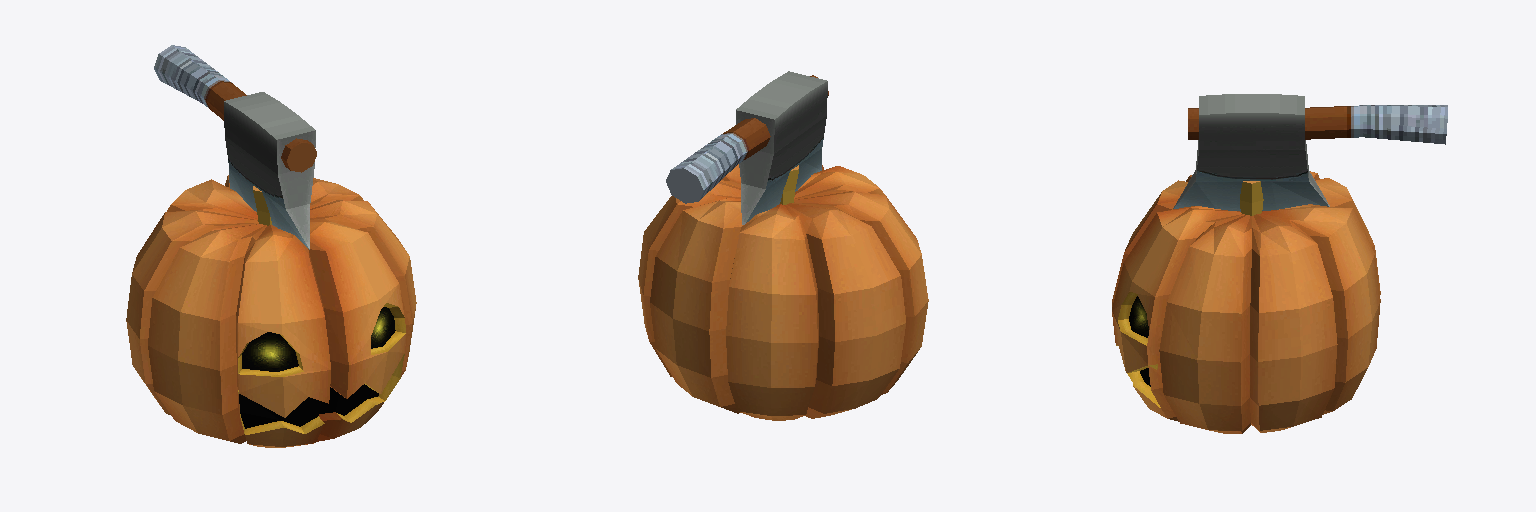
3 views of the same model, side by side, from view 1: azimuth 30°, elevation 25°; view 2: azimuth 150°, elevation 25°; view 3: azimuth 270°, elevation 25° (orthographic).
Parts seen in each view (by area): view 1: nifid_46-matrix_Object01-lib.002; view 2: nifid_46-matrix_Object01-lib.002; view 3: nifid_46-matrix_Object01-lib.002.
Boxes of the visible parts, box(x1,y1,x2,y2) form: nifid_46-matrix_Object01-lib.002: box(126, 45, 416, 447); nifid_46-matrix_Object01-lib.002: box(638, 71, 928, 420); nifid_46-matrix_Object01-lib.002: box(1112, 94, 1447, 433).
Size of the model in its own units: 0.8312 by 0.9512 by 0.95.
Materials: 1 (1 with a texture image).